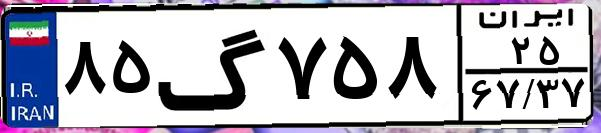2: (508, 27, 537, 80)
3: (535, 70, 560, 125)
5: (330, 28, 385, 110), (110, 28, 156, 98), (537, 27, 568, 80)
6: (470, 70, 495, 125)
7: (270, 28, 330, 110), (560, 70, 590, 125), (495, 70, 520, 125)
8: (385, 28, 445, 110), (57, 26, 110, 100)
گ: (156, 12, 270, 120)
